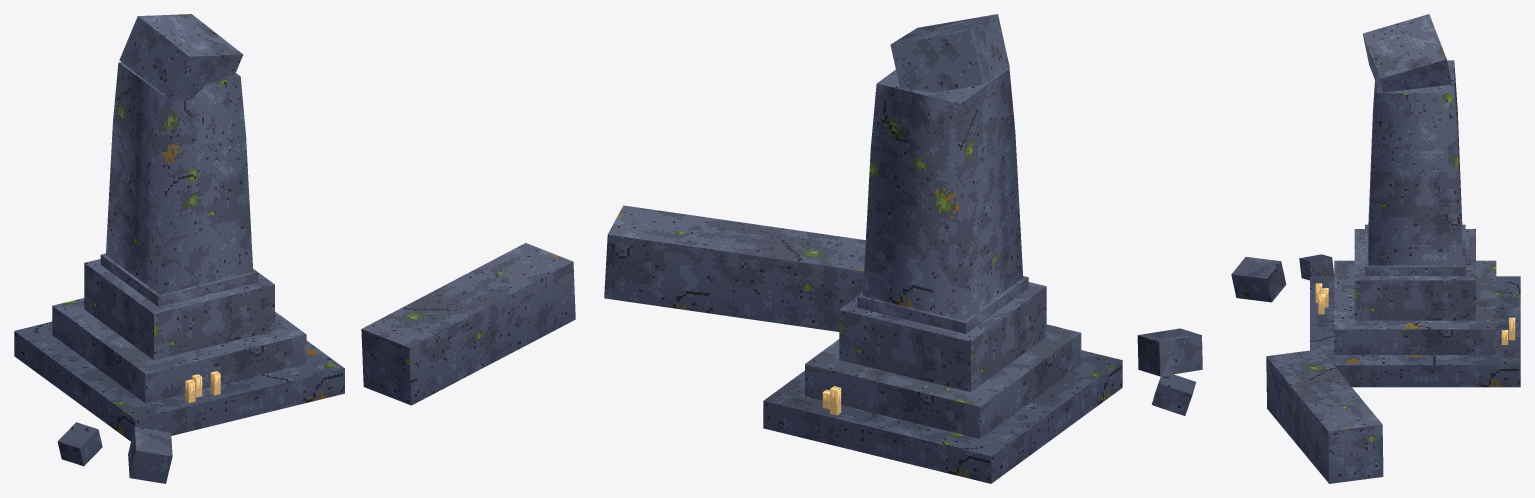
File: monument.glb
3 views of the same model, side by side, from view 1: azimuth 30°, elevation 25°; view 2: azimuth 150°, elevation 25°; view 3: azimuth 270°, elevation 25° (orthographic). The views are drawn at different scales.
Visible parts, largest first — view 1: monument-mesh-0, monument-mesh-1; view 2: monument-mesh-0; view 3: monument-mesh-0, monument-mesh-1.
Boxes of the visible parts, x1,y1,x2,y2 form: monument-mesh-0: (14,14,575,483); monument-mesh-1: (185,371,220,402); monument-mesh-0: (604,14,1202,483); monument-mesh-0: (1231,14,1520,483); monument-mesh-1: (1315,283,1515,344).
Bounding box in the file's own units: 6.48 × 4.34 × 3.57.
Materials: 2 (2 with a texture image).
